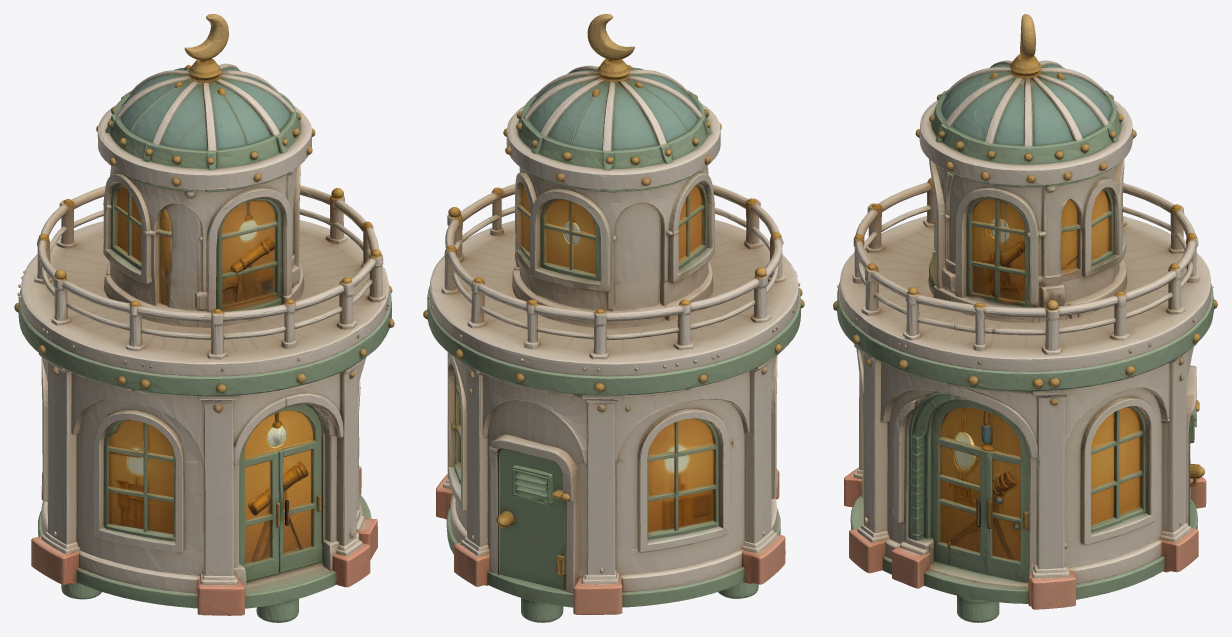
The model's file is 04-moon-observatory.glb.
3 renders of one model, left to right at view 1: azimuth 30°, elevation 25°; view 2: azimuth 150°, elevation 25°; view 3: azimuth 270°, elevation 25°, orthographic.
Bounding box in the file's own units: 0.6366 × 0.9991 × 0.6397.
Materials: 1 (1 with a texture image).
